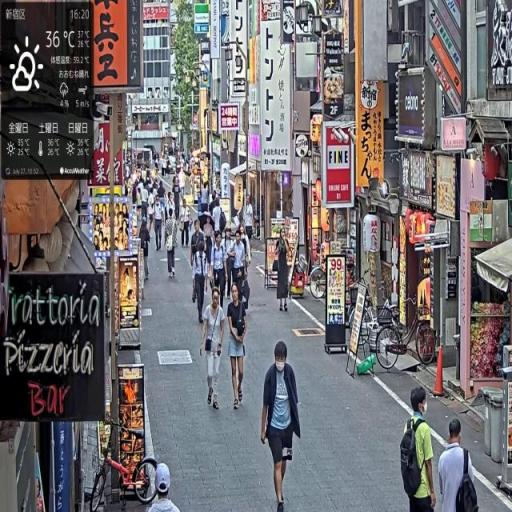person: (261, 338, 303, 512), (400, 382, 437, 512), (438, 418, 481, 512), (201, 289, 227, 410), (227, 283, 250, 411), (192, 224, 210, 326), (274, 224, 293, 315), (211, 230, 228, 310), (164, 212, 179, 284), (140, 217, 153, 284), (153, 194, 165, 251)
